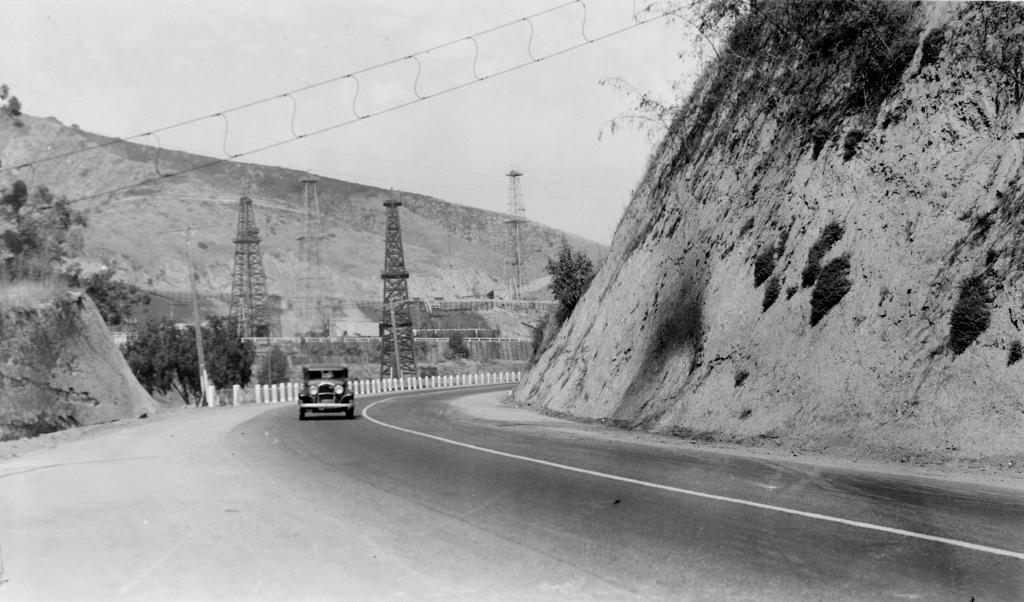Car: (298, 358, 356, 428)
